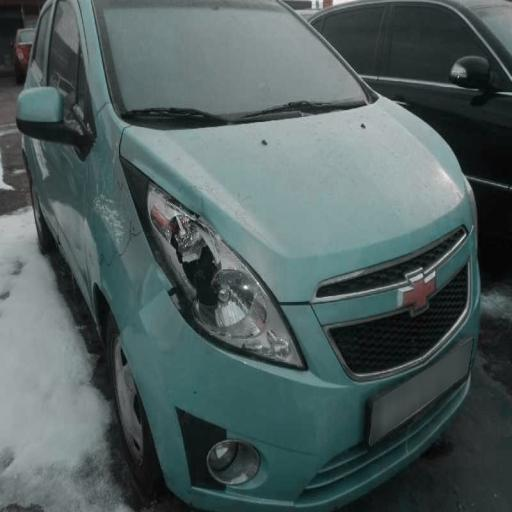scratch: (77, 148, 161, 329)
